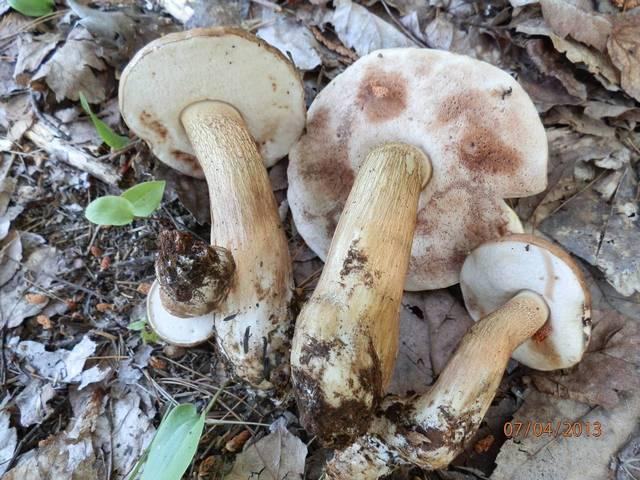Non-edible Mushroom: (285, 40, 603, 462), (116, 25, 306, 390)
